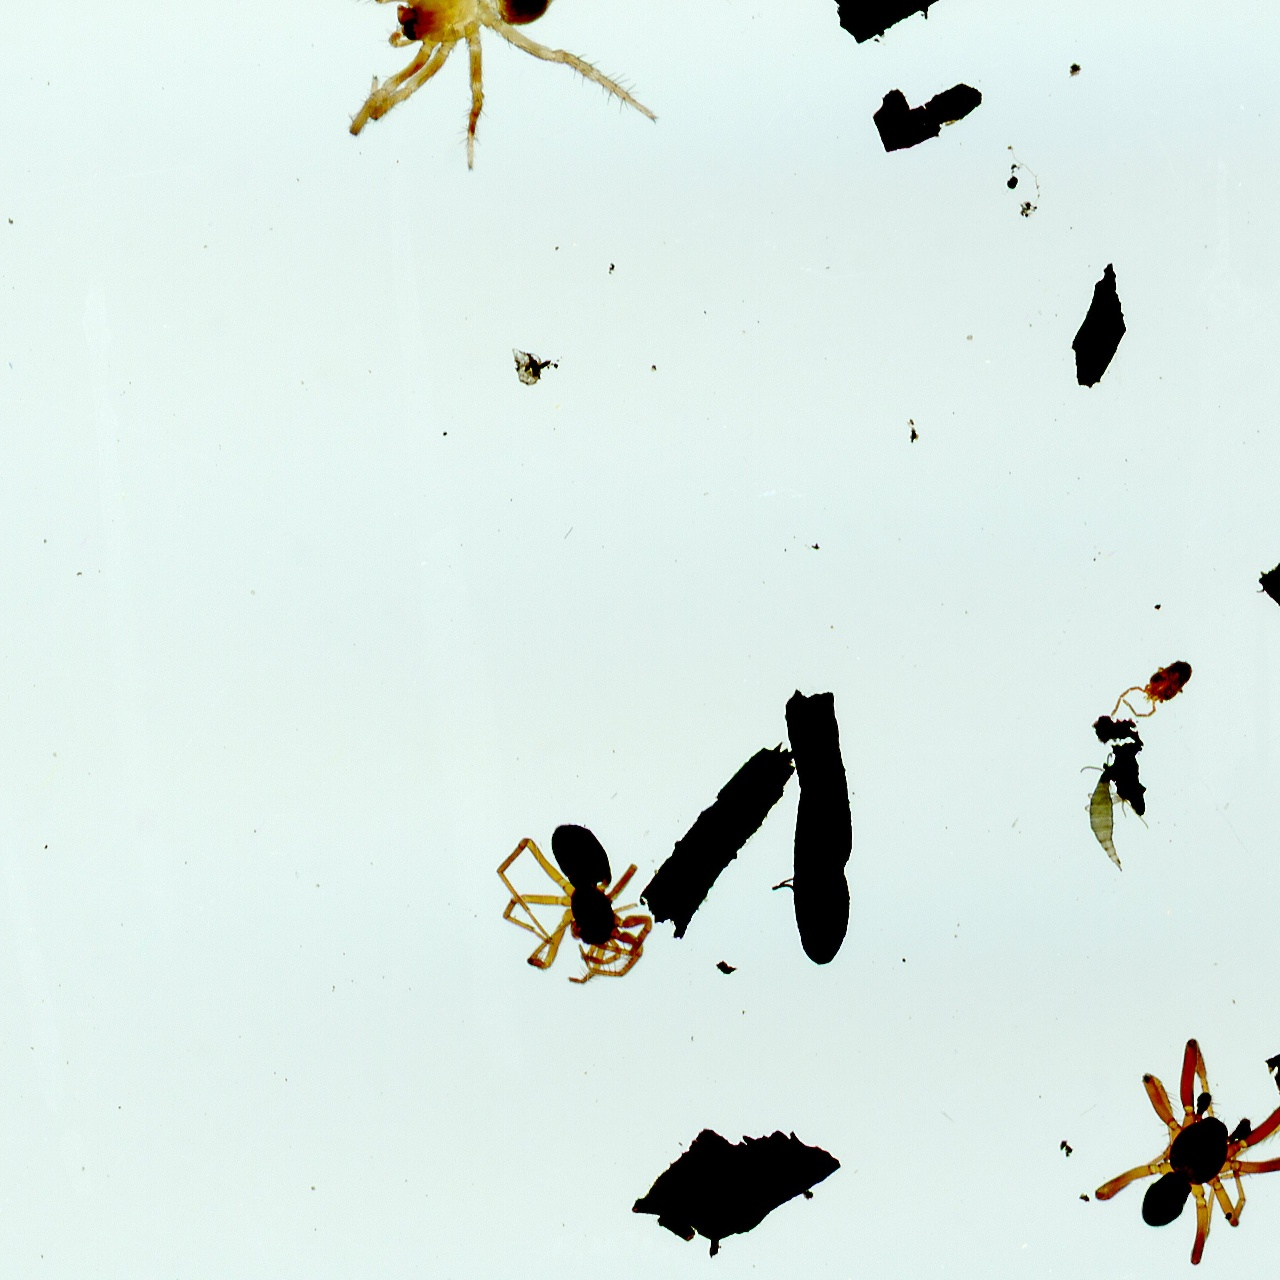arthropod: (323, 0, 654, 168), (1093, 1035, 1280, 1264), (494, 821, 653, 984), (1082, 756, 1126, 874), (1110, 659, 1193, 717)
